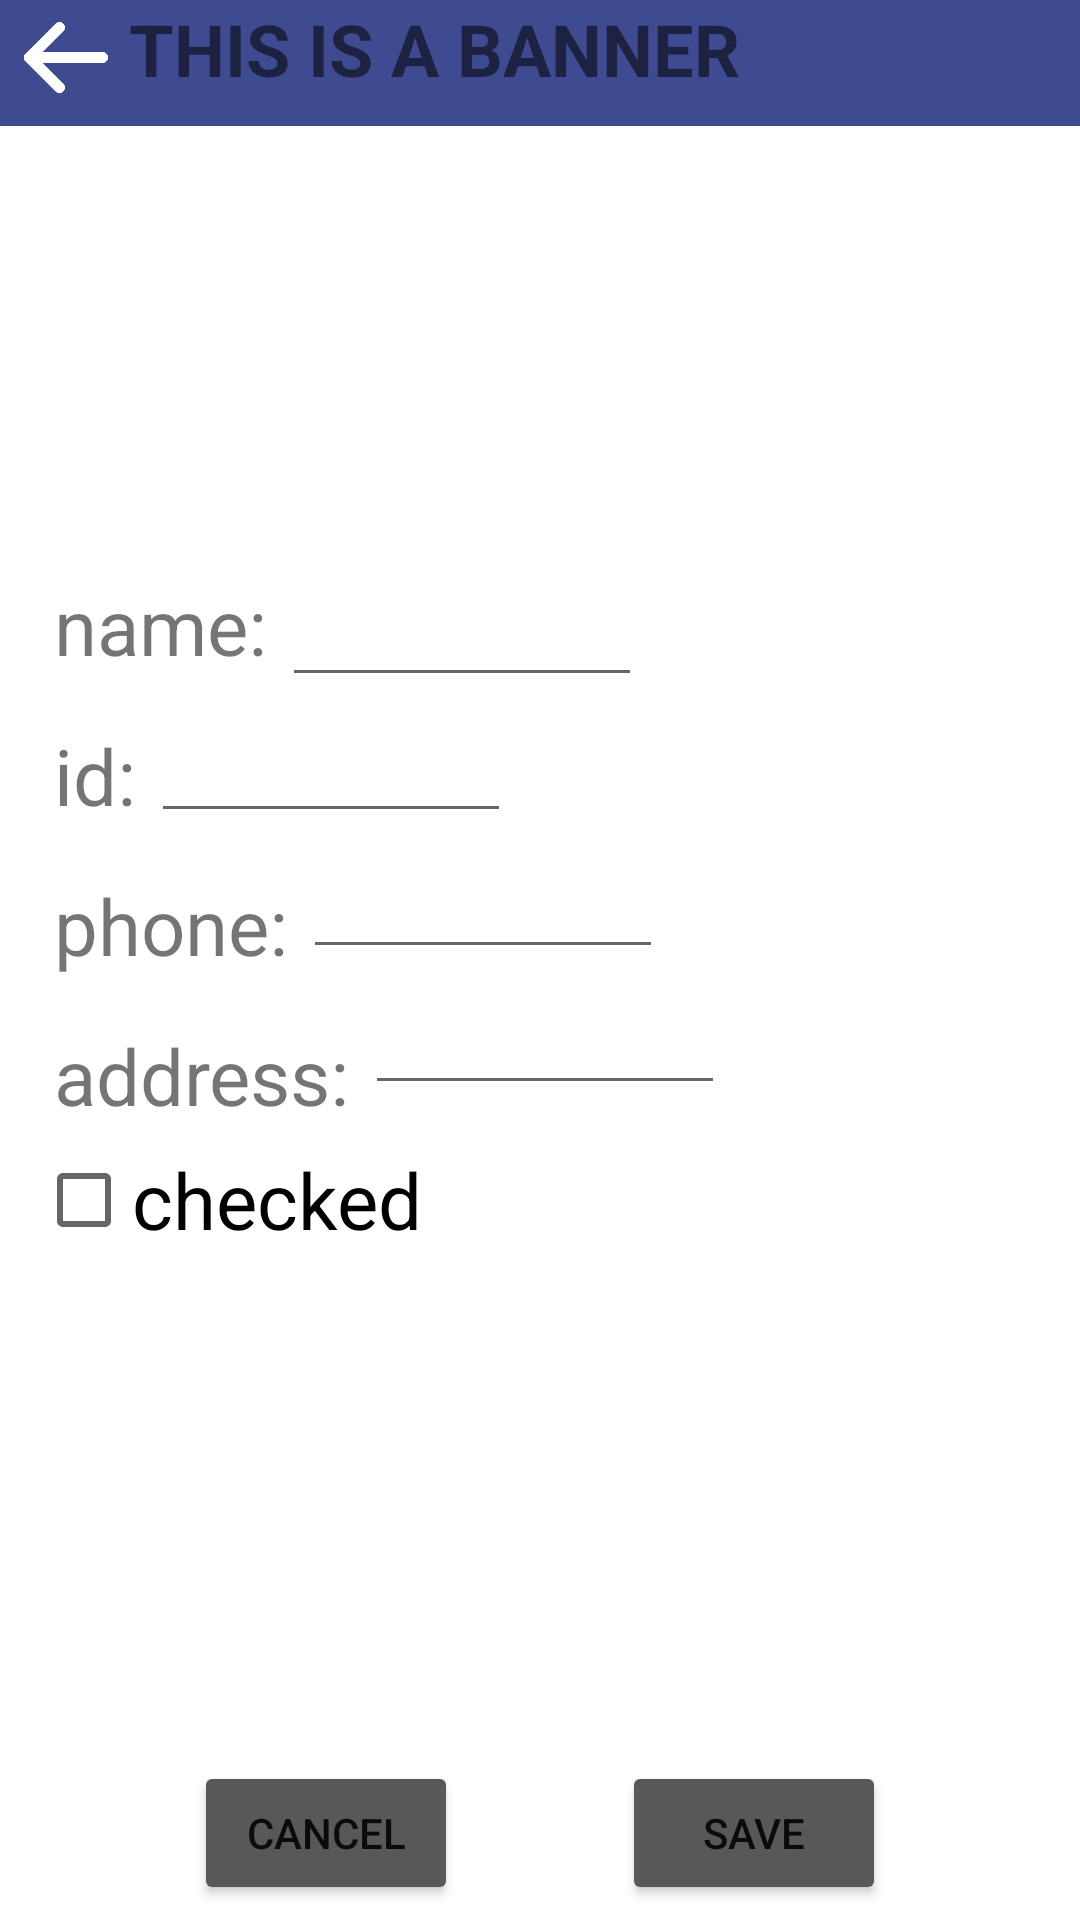

Where to tap for icons on this 1080*1920 app screen, as (x,y):
back: (66,57)
